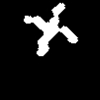single_crochet: (24, 3, 77, 55)
